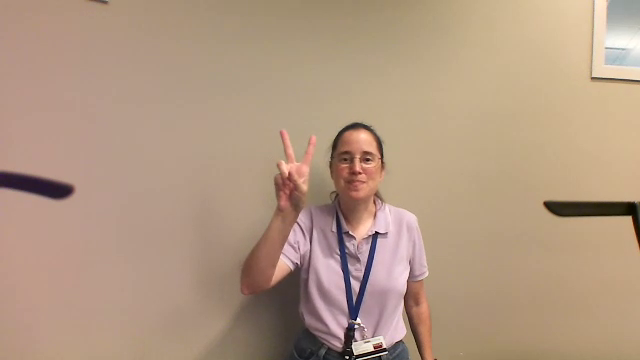peace: (264, 123, 323, 211)
